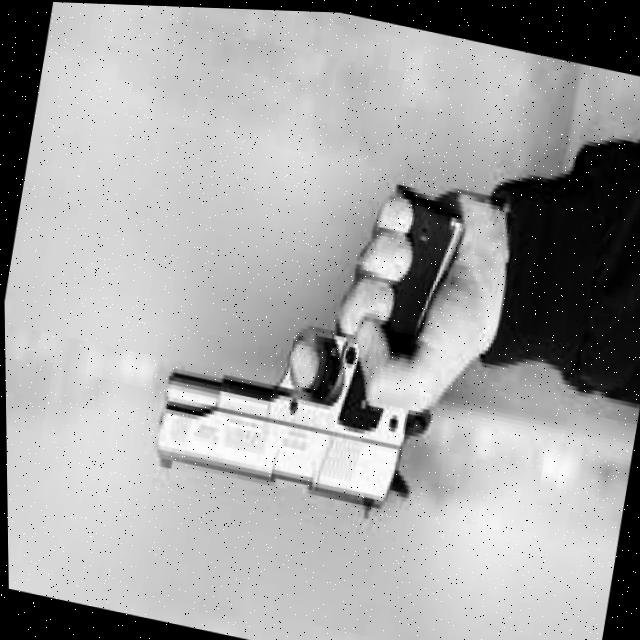pistol: (146, 291, 442, 520)
